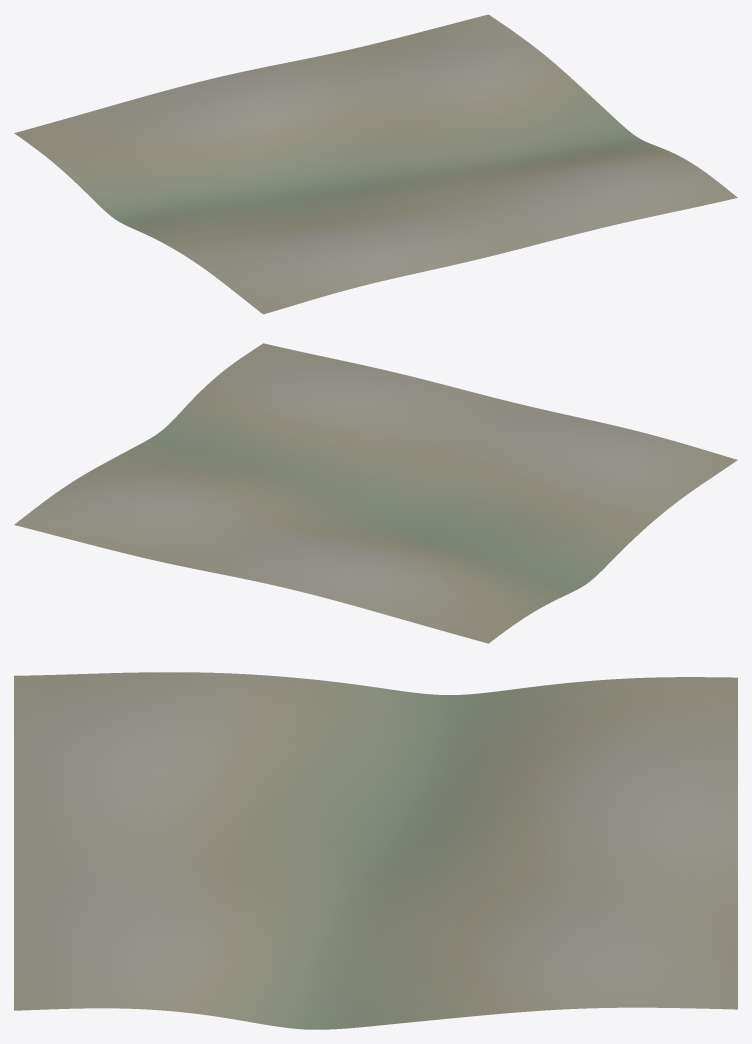
File: ozeti-terrain-reconstruction-v1.glb
3 renders of one model, top to bottom at view 1: azimuth 30°, elevation 25°; view 2: azimuth 150°, elevation 25°; view 3: azimuth 270°, elevation 25°, orthographic. The views are drawn at different scales.
Visible parts, largest first — view 1: world; view 2: world; view 3: world.
Boxes of the visible parts, x1=… form: world: x1=14, y1=14, x2=737, y2=314; world: x1=14, y1=343, x2=737, y2=643; world: x1=14, y1=672, x2=737, y2=1029.
Bounding box in the file's own units: 8550 × 388 × 7780.
